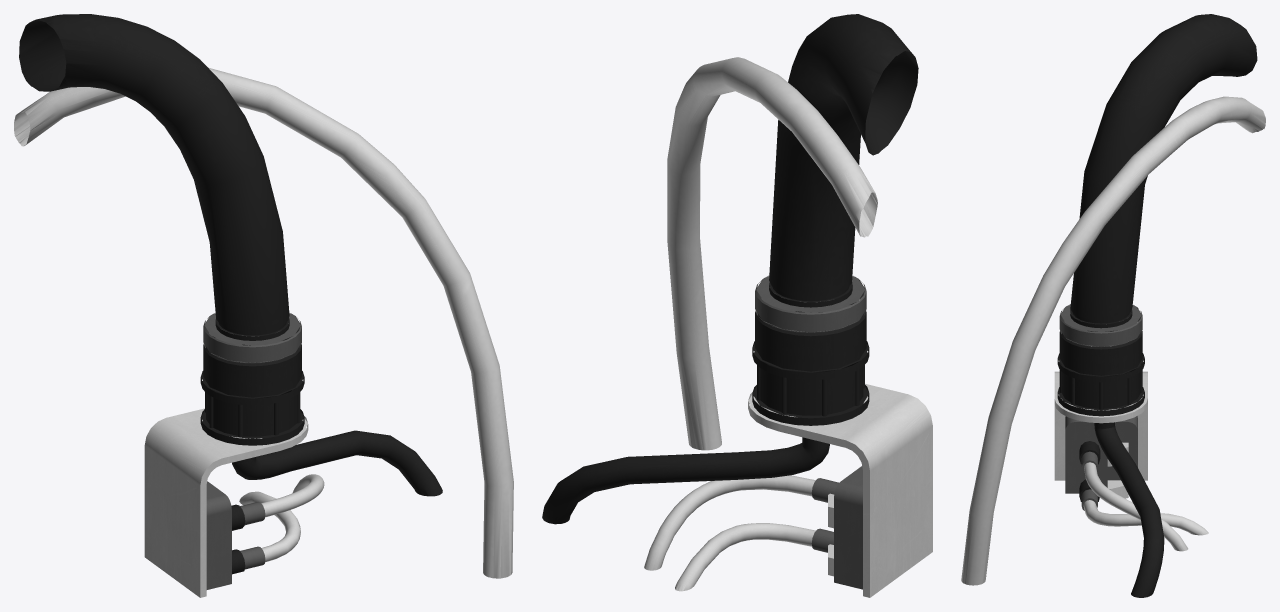
Rendered from TightenerStation_Cube21.glb.
3 views of the same model, side by side, from view 1: azimuth 30°, elevation 25°; view 2: azimuth 150°, elevation 25°; view 3: azimuth 270°, elevation 25° (orthographic). The views are drawn at different scales.
Parts seen in each view (by area): view 1: color-2.023; view 2: color-2.023; view 3: color-2.023.
Part boxes in pixels (x1,y1,x2,y2): color-2.023: [14, 14, 513, 597]; color-2.023: [542, 14, 932, 597]; color-2.023: [961, 14, 1265, 597].
Size of the model in its own units: 0.1651 by 0.2358 by 0.1467.
3 materials, 3 textured.
